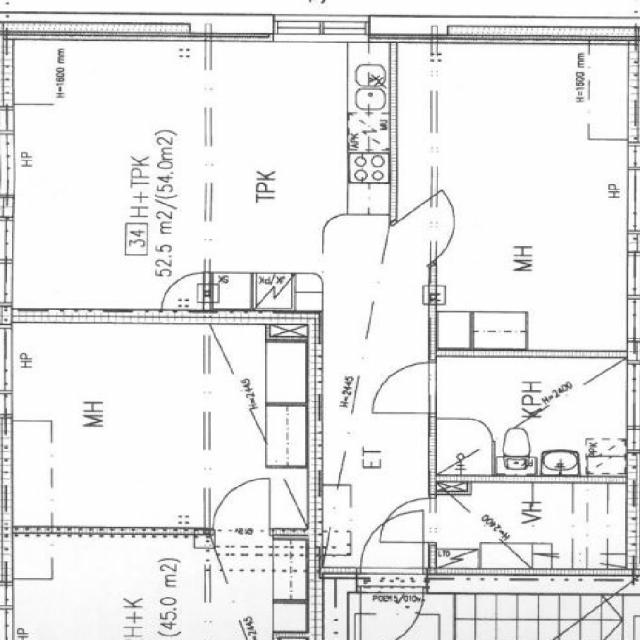door: (392, 190, 476, 265), (360, 511, 423, 574), (360, 585, 422, 640), (373, 363, 435, 413), (378, 498, 436, 543)
